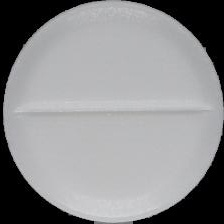0054-4183: (0, 0, 224, 224)
